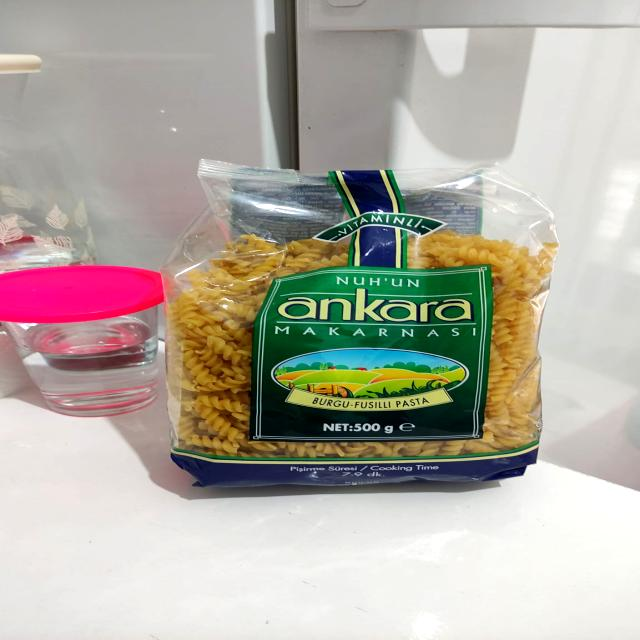onion: (165, 156, 564, 494)
